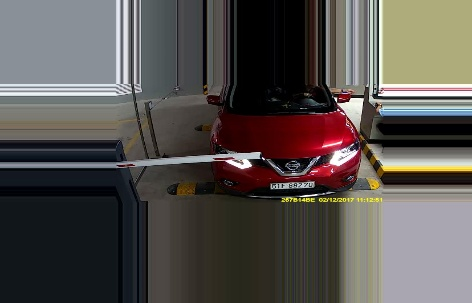plate: (269, 180, 317, 193)
